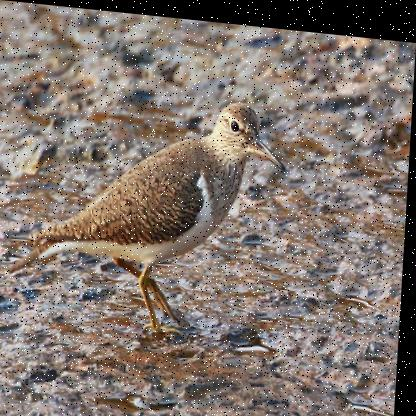Burung: (10, 80, 292, 344)
